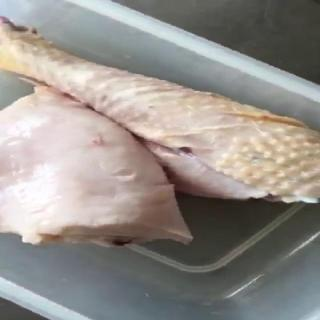Ayam: (1, 16, 320, 204), (1, 85, 194, 249)
